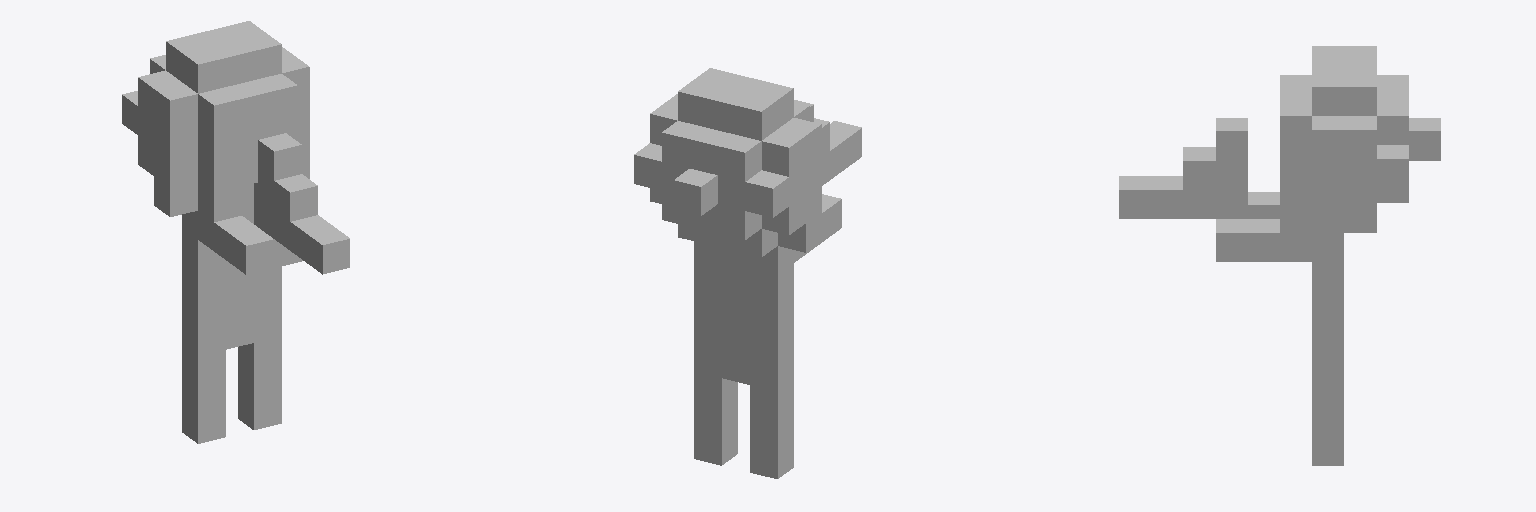
The model's file is Snowwarrior3.obj.
The picture shows the model from 3 angles: view 1: azimuth 30°, elevation 25°; view 2: azimuth 150°, elevation 25°; view 3: azimuth 270°, elevation 25°; orthographic projection.
Size of the model in its own units: 5 by 13 by 10.